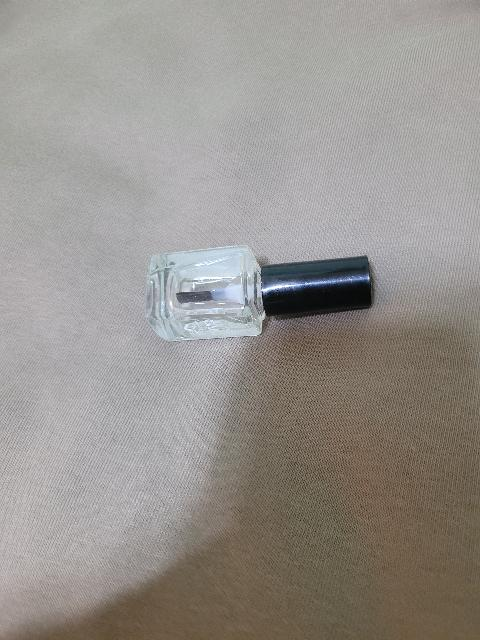Cam: (141, 240, 265, 356)
Plastik: (257, 254, 373, 316)
